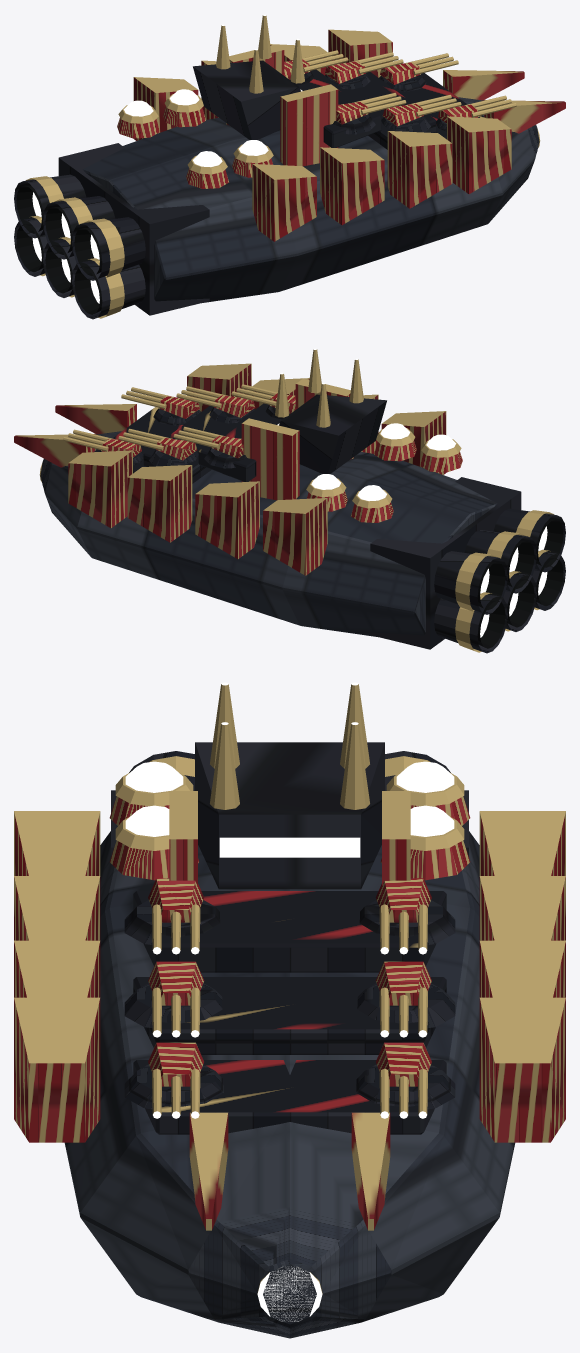
File: dreadnought.glb
3 views of the same model, one above another, from view 1: azimuth 30°, elevation 25°; view 2: azimuth 150°, elevation 25°; view 3: azimuth 270°, elevation 25° (orthographic). The views are drawn at different scales.
Visible parts, largest first — view 1: hull_body, engine_block, sensor_tower, weapon_turrets, shield_domes; view 2: hull_body, engine_block, sensor_tower, weapon_turrets, shield_domes; view 3: hull_body, sensor_tower, weapon_turrets, shield_domes, engine_block.
Boxes of the visible parts, left/top/right/bottom form: hull_body: left=83, top=29, right=565, bottom=303; engine_block: left=14, top=143, right=209, bottom=319; sensor_tower: left=193, top=14, right=338, bottom=166; weapon_turrets: left=282, top=50, right=540, bottom=147; shield_domes: left=117, top=89, right=273, bottom=188; hull_body: left=14, top=363, right=496, bottom=637; engine_block: left=370, top=477, right=565, bottom=653; sensor_tower: left=241, top=348, right=386, bottom=500; weapon_turrets: left=39, top=384, right=297, bottom=481; shield_domes: left=306, top=423, right=462, bottom=522; hull_body: left=14, top=811, right=565, bottom=1338; sensor_tower: left=169, top=682, right=410, bottom=889; weapon_turrets: left=124, top=878, right=455, bottom=1321; shield_domes: left=109, top=761, right=470, bottom=880; engine_block: left=111, top=751, right=468, bottom=856.
Bounding box in the file's own units: 80 × 37.07 × 40.05.
1 material, 1 textured.
